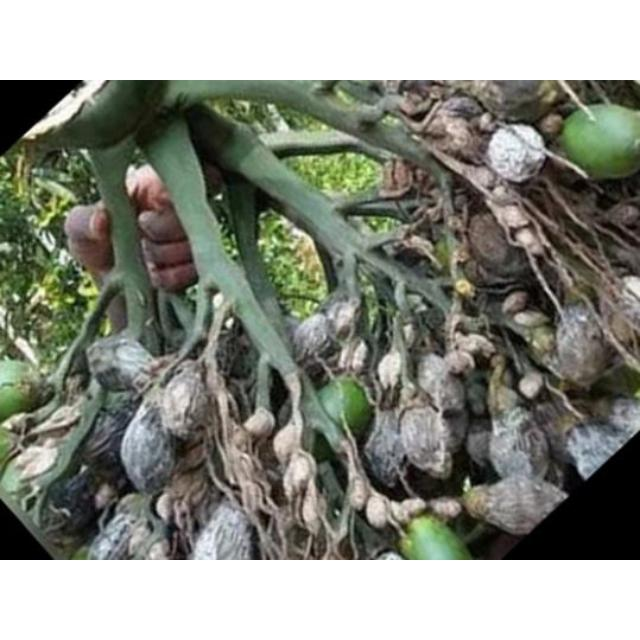damaged: (122, 392, 176, 494), (486, 402, 554, 483), (547, 302, 611, 388), (88, 496, 162, 560), (397, 404, 457, 478), (189, 500, 257, 560), (86, 334, 154, 394), (362, 412, 408, 488), (415, 354, 463, 414), (273, 424, 303, 464), (462, 486, 493, 520), (243, 409, 275, 438), (458, 333, 496, 357), (428, 496, 464, 520), (346, 475, 369, 511), (517, 372, 545, 401), (442, 348, 473, 374), (399, 498, 427, 520)
